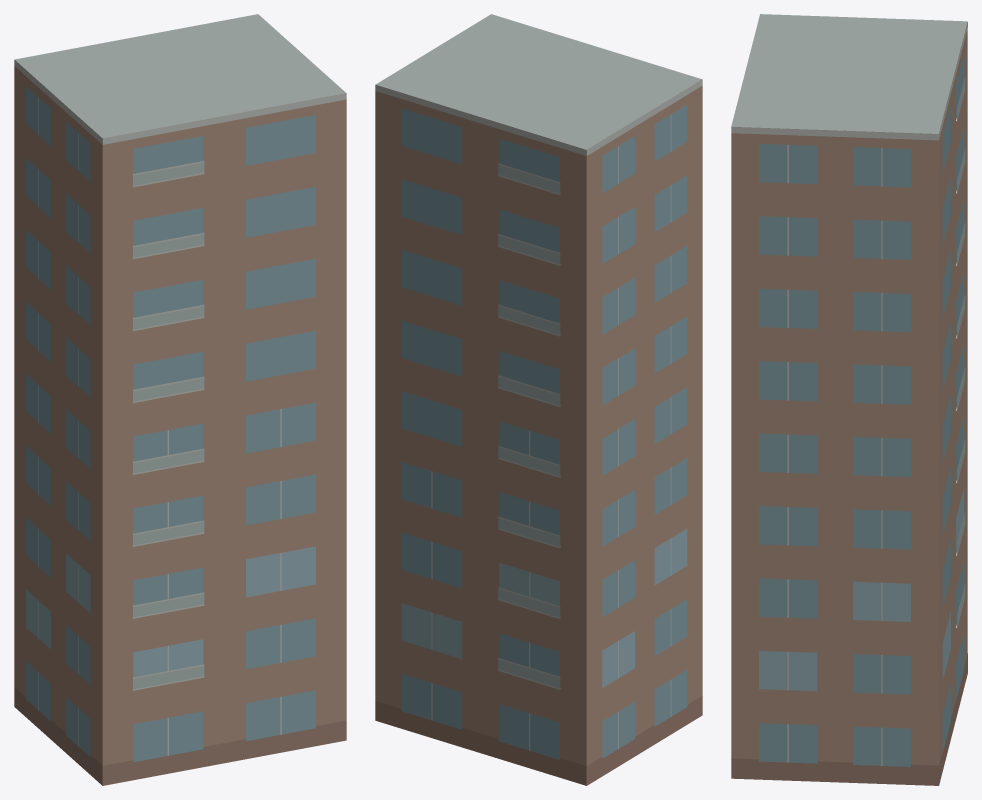
File: survey-upis-32660791.glb
3 views of the same model, side by side, from view 1: azimuth 30°, elevation 25°; view 2: azimuth 150°, elevation 25°; view 3: azimuth 270°, elevation 25° (orthographic). The views are drawn at different scales.
Visible parts, largest first — view 1: survey-upis-32660791.tmp; view 2: survey-upis-32660791.tmp; view 3: survey-upis-32660791.tmp.
Boxes of the visible parts, bbox=[...] form: survey-upis-32660791.tmp: bbox=[14, 14, 346, 785]; survey-upis-32660791.tmp: bbox=[375, 14, 702, 785]; survey-upis-32660791.tmp: bbox=[731, 14, 967, 785].
Bounding box in the file's own units: 9.84 × 24.9 × 8.2.
